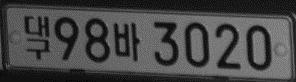0: (245, 24, 272, 71), (184, 21, 210, 66)
2: (215, 23, 241, 69)
3: (153, 20, 179, 66)
8: (83, 17, 111, 63)
9: (54, 15, 79, 61)
대구_V: (23, 15, 50, 61)
바: (113, 22, 140, 61)
